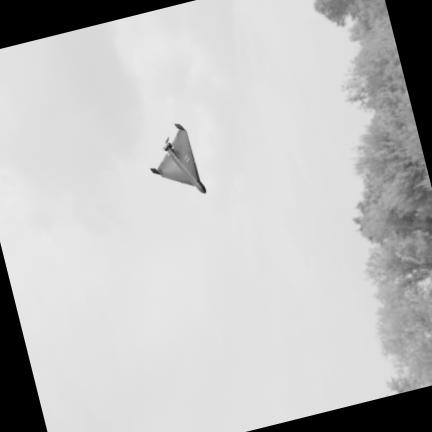Shahed: (152, 124, 204, 191)
